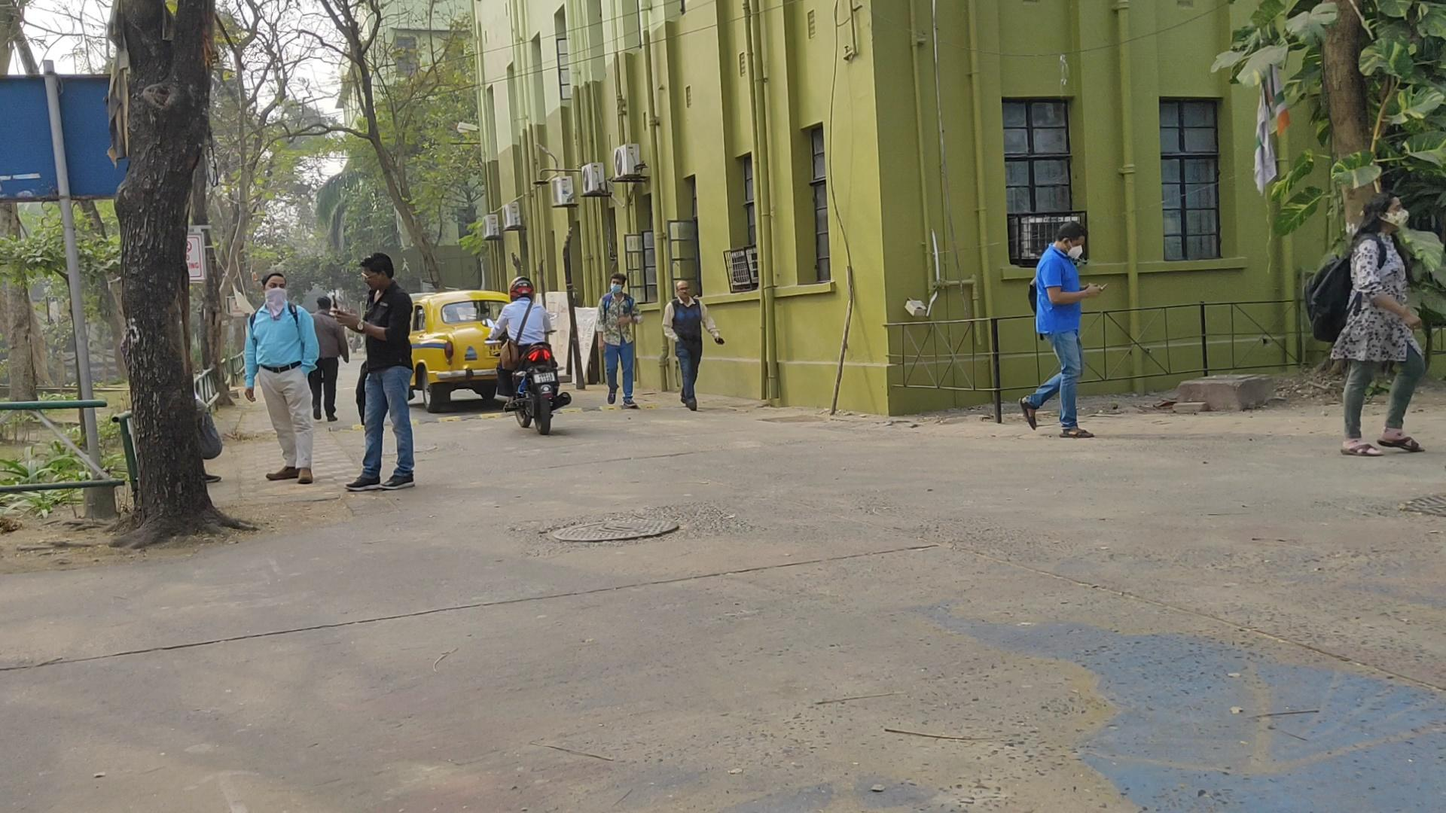bike: (487, 275, 572, 435)
car: (405, 283, 539, 413)
